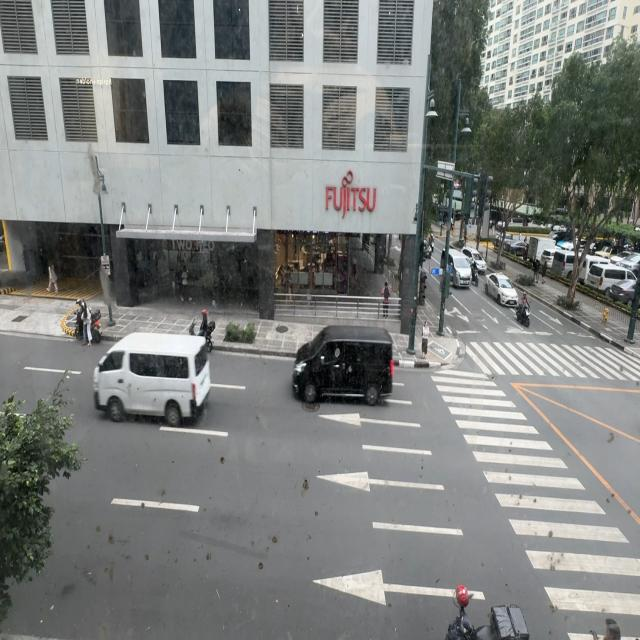pedestrain: (46, 264, 58, 293), (382, 281, 390, 317), (532, 258, 540, 284), (541, 258, 547, 282)
waiting: (422, 319, 429, 358)
